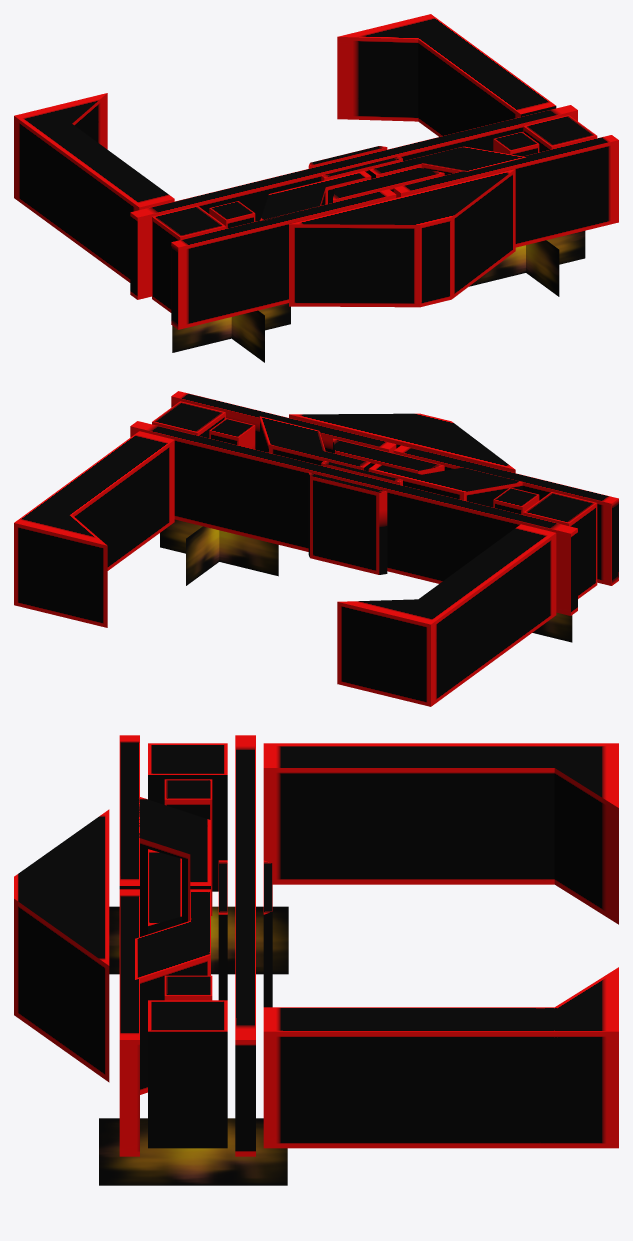
File: RecowGunsBoned_wtf.obj
3 renders of one model, top to bottom at view 1: azimuth 30°, elevation 25°; view 2: azimuth 150°, elevation 25°; view 3: azimuth 270°, elevation 25°, orthographic. The views are drawn at different scales.
Parts seen in each view (by area): view 1: group17, group1, group6, group12, group13, group9, group18, group11, group4, group16, group2, group7 (+4 smaller); view 2: group9, group6, group1, group8, group17, group18, group12, group11, group16, group4, group13, group2 (+5 smaller); view 3: group1, group6, group17, group2, group18, group9, group4, group13, group16, group11, group12, group7 (+4 smaller).
Boxes of the visible parts, left/top/right/bottom form: group17: left=289, top=169, right=515, bottom=307; group1: left=337, top=14, right=556, bottom=136; group6: left=14, top=93, right=174, bottom=282; group12: left=171, top=189, right=396, bottom=329; group13: left=393, top=135, right=618, bottom=247; group9: left=130, top=105, right=577, bottom=299; group18: left=172, top=231, right=585, bottom=362; group11: left=152, top=205, right=225, bottom=312; group4: left=368, top=146, right=525, bottom=178; group16: left=260, top=171, right=371, bottom=220; group2: left=523, top=115, right=597, bottom=152; group7: left=333, top=167, right=444, bottom=202; group9: left=130, top=421, right=577, bottom=615; group6: left=337, top=524, right=556, bottom=706; group1: left=14, top=431, right=174, bottom=627; group8: left=308, top=472, right=387, bottom=574; group17: left=289, top=413, right=515, bottom=473; group18: left=160, top=519, right=572, bottom=642; group12: left=393, top=445, right=618, bottom=585; group11: left=523, top=492, right=597, bottom=598; group16: left=368, top=463, right=522, bottom=507; group4: left=259, top=416, right=371, bottom=471; group13: left=171, top=391, right=396, bottom=453; group2: left=152, top=401, right=225, bottom=438; group1: left=263, top=967, right=618, bottom=1148; group6: left=263, top=743, right=618, bottom=924; group17: left=14, top=809, right=109, bottom=1082; group2: left=148, top=1000, right=227, bottom=1148; group18: left=99, top=906, right=288, bottom=1185; group9: left=235, top=735, right=255, bottom=1156; group4: left=135, top=889, right=210, bottom=1094; group13: left=119, top=889, right=139, bottom=1156; group16: left=138, top=797, right=210, bottom=936; group11: left=148, top=743, right=227, bottom=891; group12: left=119, top=735, right=139, bottom=889; group7: left=148, top=849, right=181, bottom=934.
Size of the model in its own units: 211 by 61.88 by 177.
